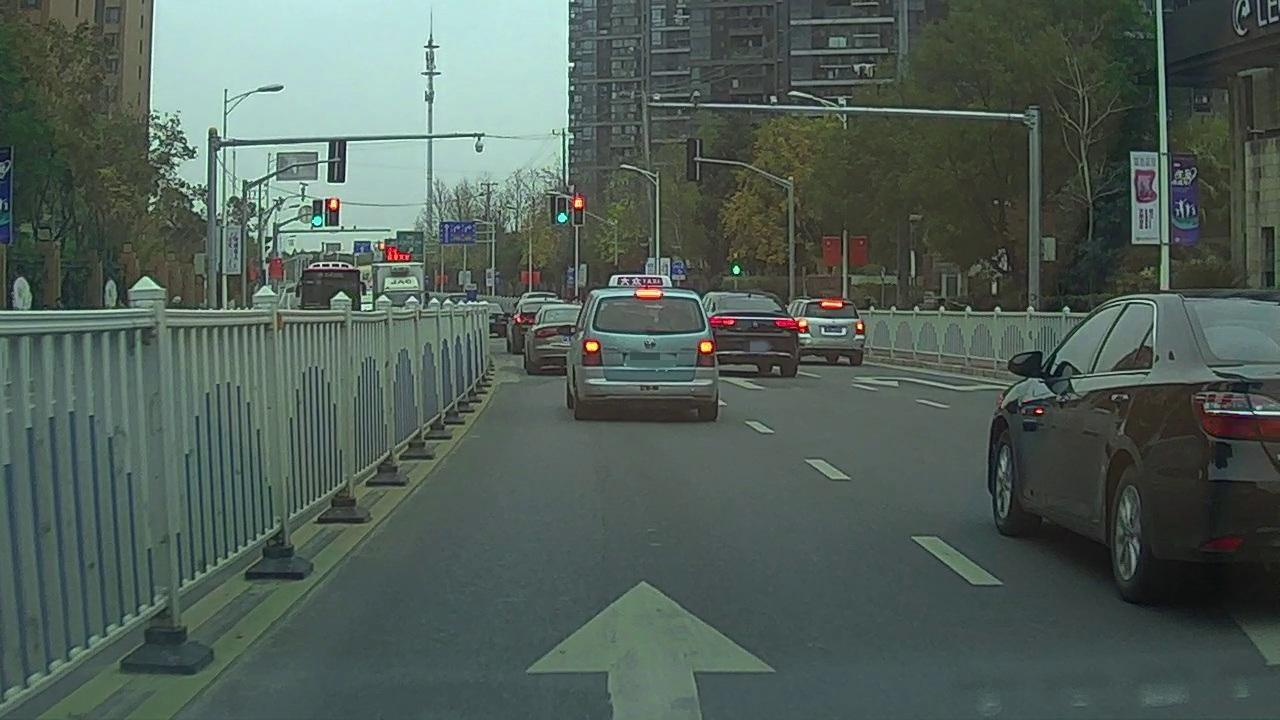traffic_light: (327, 198, 340, 226), (556, 198, 568, 225), (312, 200, 324, 226), (573, 198, 584, 223)
